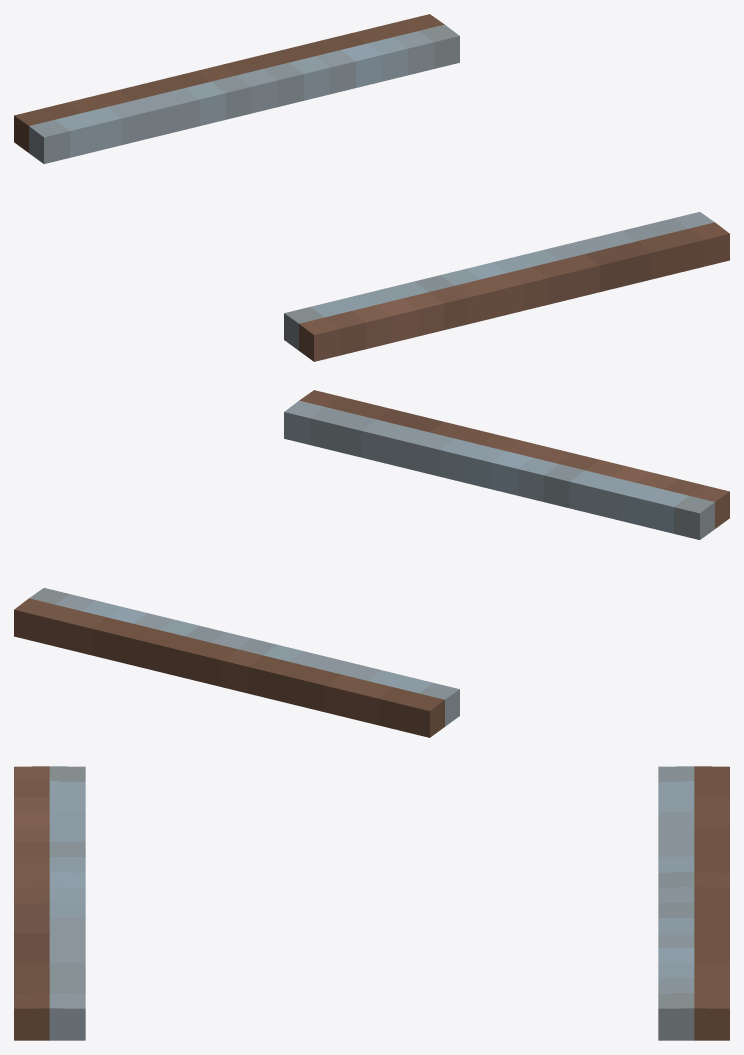
The model's file is voxel-meter-low-profile.obj.
3 renders of one model, top to bottom at view 1: azimuth 30°, elevation 25°; view 2: azimuth 150°, elevation 25°; view 3: azimuth 270°, elevation 25°, orthographic. The views are drawn at different scales.
Parts seen in each view (by area): view 1: RAIL_LEFT, RAIL_RIGHT; view 2: RAIL_RIGHT, RAIL_LEFT; view 3: RAIL_LEFT, RAIL_RIGHT.
Boxes of the visible parts, left/top/right/bottom form: RAIL_LEFT: left=284, top=212, right=729, bottom=361; RAIL_RIGHT: left=14, top=14, right=459, bottom=163; RAIL_RIGHT: left=14, top=588, right=459, bottom=737; RAIL_LEFT: left=284, top=390, right=729, bottom=539; RAIL_LEFT: left=14, top=766, right=85, bottom=1040; RAIL_RIGHT: left=658, top=766, right=729, bottom=1040.
Size of the model in its own units: 1 by 0.0625 by 1.25.
Materials: 1 (1 with a texture image).
